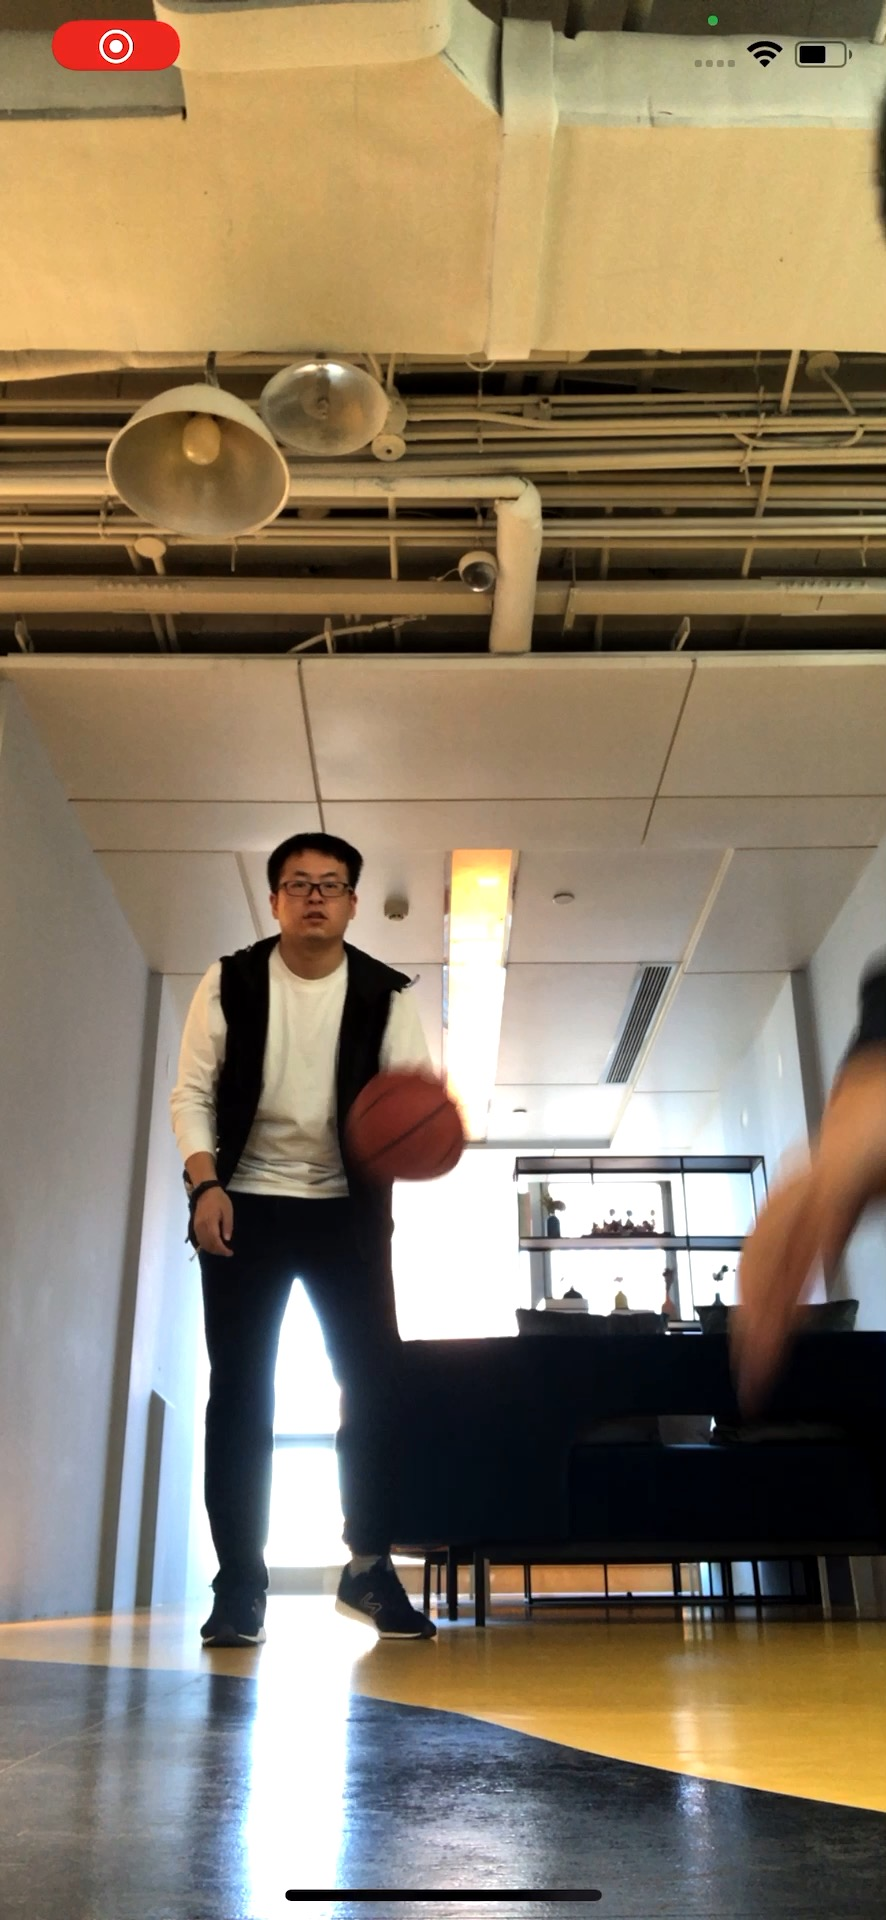ball: (349, 1063, 465, 1180)
